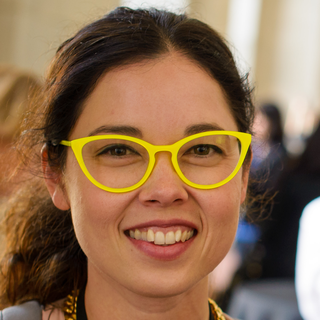eye: (82, 132, 145, 167), (172, 132, 229, 167)
